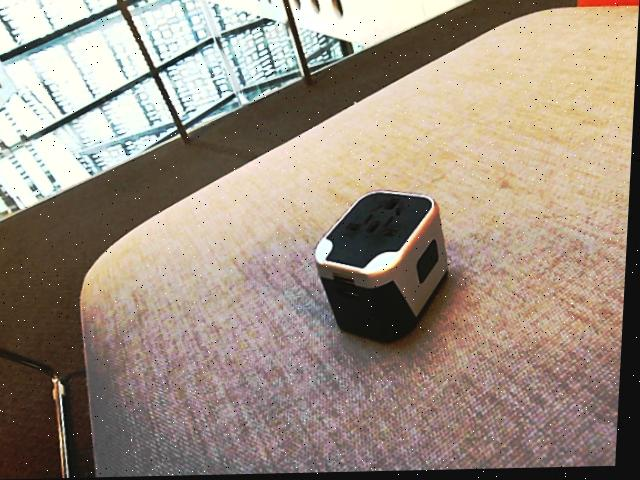adapter: (313, 190, 455, 346)
